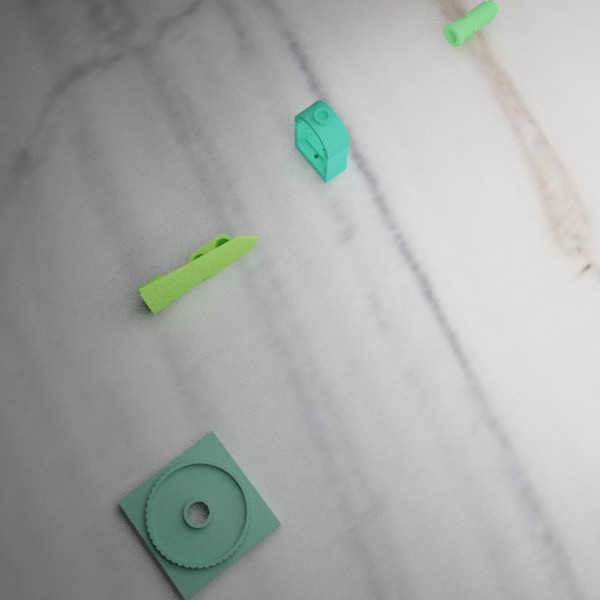lego: (117, 430, 281, 600), (136, 234, 259, 314), (294, 100, 349, 183), (443, 0, 498, 47)
